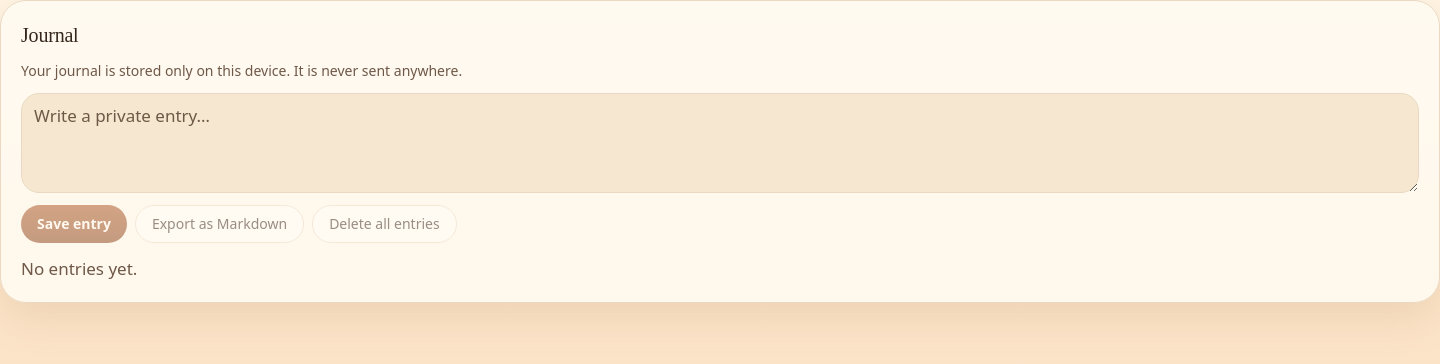
Test case: JournalCard — save and load round-trip › saves an entry, lists it with a timestamp, and persists to localStorage
The width and height of the screenshot is (1440, 364).
In the text box named "what's on your mind": [720, 143] box [21,93,1419,193], type "a private thought that must never reach the network"
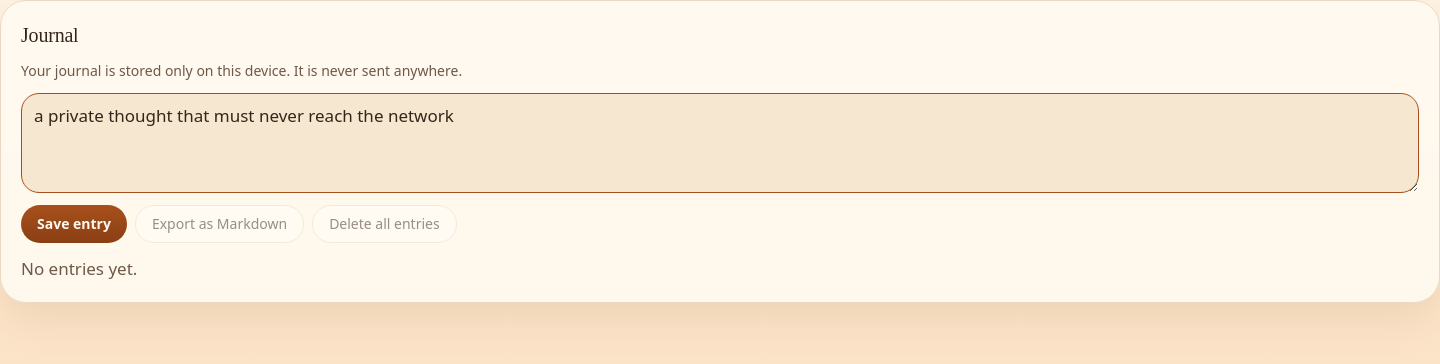
Click the button "Save entry": [74, 224] box [21,205,127,243]
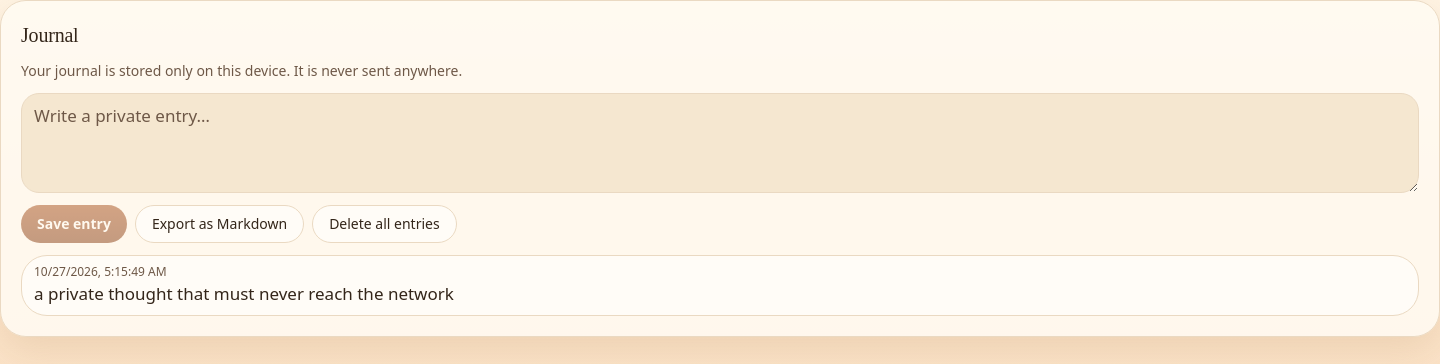
Now the text "a private thought that must never reach the network" is shown, box [34,282,454,305]
